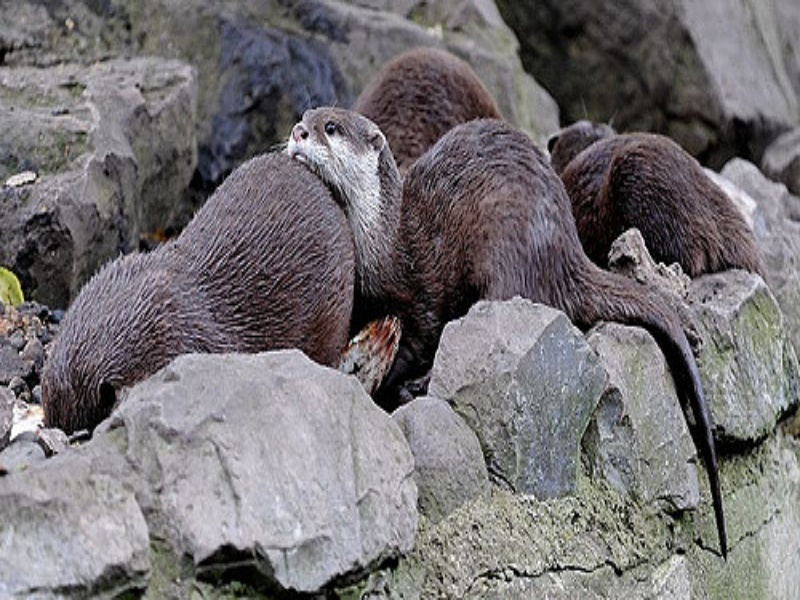minkish: (289, 106, 741, 569), (37, 141, 355, 455), (540, 115, 774, 302)
